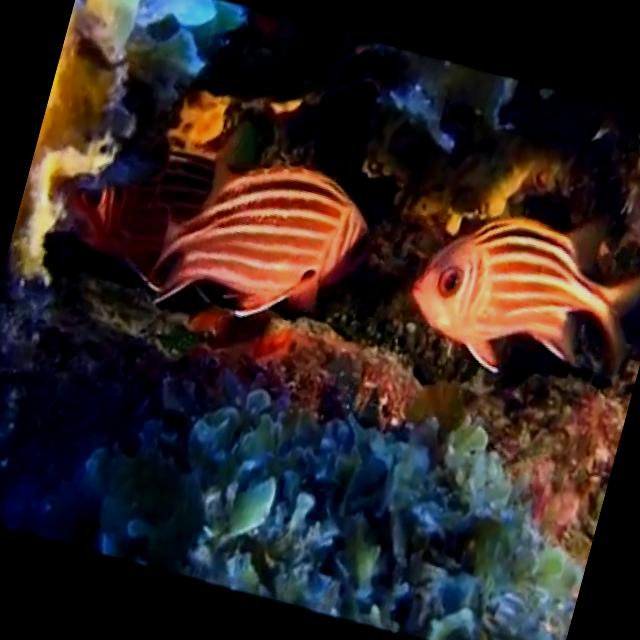Asker Baligi: (138, 129, 386, 355), (392, 188, 640, 410)
